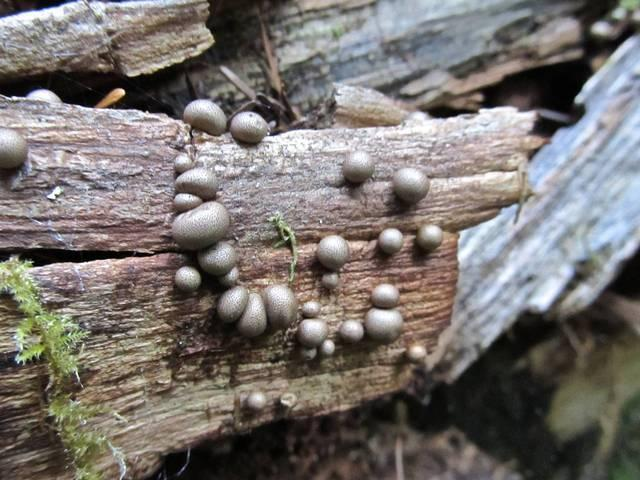poisonous_mushroom: (170, 200, 230, 249), (182, 97, 227, 137), (263, 283, 297, 328), (391, 166, 430, 204), (235, 291, 267, 337), (173, 166, 219, 198), (364, 307, 403, 342), (229, 109, 268, 143), (0, 126, 28, 170), (315, 234, 350, 269), (341, 149, 374, 183), (415, 223, 443, 251), (173, 264, 201, 292), (377, 226, 403, 254)
